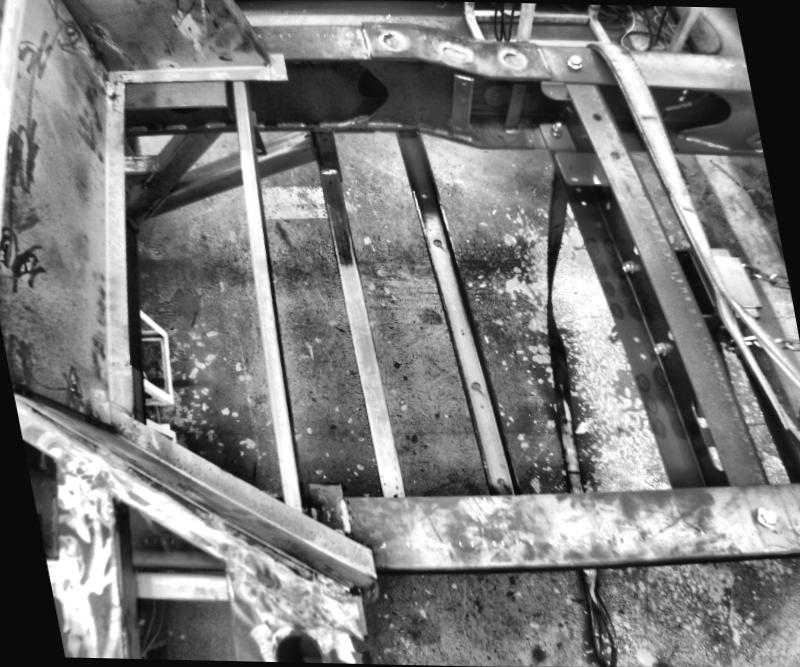bolt: (753, 507, 781, 529), (562, 54, 585, 76), (548, 123, 564, 140), (652, 343, 670, 358), (620, 261, 636, 275)
bracket: (302, 474, 360, 528), (442, 73, 481, 139), (490, 82, 532, 142), (550, 152, 610, 190), (246, 113, 271, 161)
hole: (265, 630, 329, 662), (467, 381, 483, 393), (493, 476, 506, 488), (630, 335, 643, 343), (608, 151, 619, 160), (590, 111, 600, 120), (432, 238, 442, 246), (418, 190, 427, 198), (638, 351, 646, 360), (326, 178, 334, 185), (566, 165, 574, 172), (256, 152, 264, 156), (301, 134, 308, 138)
